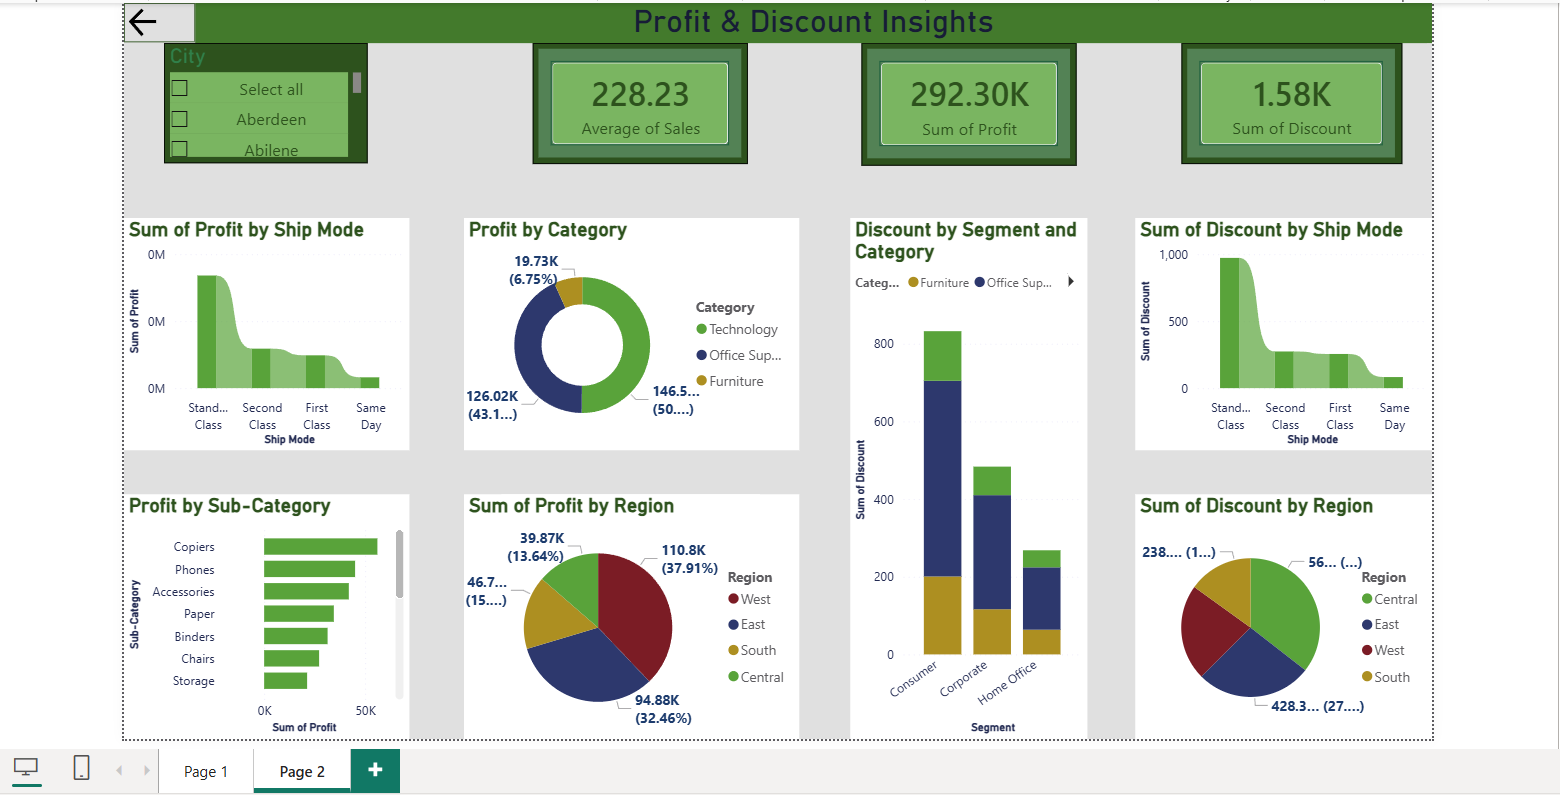

What the dashboard file says about the page in this screenshot:
{"tool":"powerbi","page":{"name":"Page 2","canvas":[1280,720],"ordinal":1},"visuals":[{"type":"pieChart","fields":{"Category":["samplesuperstore.Region"],"Y":["Sum(samplesuperstore.Discount)"]},"box":[989.3,480.6,291,239.7],"z":0},{"type":"donutChart","title":"Profit by Category","fields":{"Y":["Sum(samplesuperstore.Profit)"],"Category":["samplesuperstore.Category"]},"box":[332.6,210.3,327.7,227.4],"z":1000},{"type":"columnChart","title":"Discount by Segment and Category","fields":{"Category":["samplesuperstore.Segment"],"Y":["Sum(samplesuperstore.Discount)"],"Series":["samplesuperstore.Category"]},"box":[710.5,210.3,232.3,509.9],"z":2000},{"type":"pieChart","title":"Profit by Country","fields":{"Category":["samplesuperstore.Country/Region"],"Y":["Sum(samplesuperstore.Profit)"]},"box":[369.3,480.6,253.1,239.7],"z":3000},{"type":"ribbonChart","fields":{"Y":["Sum(samplesuperstore.Discount)"],"Category":["samplesuperstore.Ship Mode"]},"box":[989.3,210.3,291,227.4],"z":4000},{"type":"cardVisual","fields":{"Data":["Sum(samplesuperstore.Profit)"]},"box":[721.5,39.1,210.3,119.8],"z":5000},{"type":"cardVisual","fields":{"Data":["Sum(samplesuperstore.Discount)"]},"box":[1035,39.1,215.6,118.6],"z":6000},{"type":"textbox","title":"Profit & Discount Insights","box":[70.1,0,1210.2,39.1],"z":7000},{"type":"actionButton","box":[0,0,70,38.4],"z":8000},{"type":"pieChart","fields":{"Y":["Sum(samplesuperstore.Profit)"],"Category":["samplesuperstore.Region"]},"box":[332.6,480.6,327.7,239.7],"z":9000},{"type":"ribbonChart","fields":{"Y":["Sum(samplesuperstore.Profit)"],"Category":["samplesuperstore.Ship Mode"]},"box":[0,210.3,278.8,227.4],"z":10000},{"type":"cardVisual","fields":{"Data":["Avg(samplesuperstore.Sales)"]},"box":[399.9,39.1,210.3,118.6],"z":11000},{"type":"listSlicer","fields":{"Values":["samplesuperstore.City"]},"box":[39.1,39.1,199.3,117.4],"z":12000},{"type":"clusteredBarChart","title":"Profit by Sub-Category","fields":{"Category":["samplesuperstore.Sub-Category"],"Y":["Sum(samplesuperstore.Profit)"]},"box":[0,480.6,278.8,239.7],"z":13000}]}

Visuals, with their boxes on the page's 1280x720 design canvas (x1, y1, x2, y2). These are canvas units, not pixel positions in the 1560x795 screenshot, which may show the page scaled, cropped or inside an application window:
pieChart - samplesuperstore.Region x Sum(samplesuperstore.Discount): detection(989, 481, 1280, 720)
"Profit by Category" donutChart: detection(333, 210, 660, 438)
"Discount by Segment and Category" columnChart: detection(710, 210, 943, 720)
"Profit by Country" pieChart: detection(369, 481, 622, 720)
ribbonChart - Sum(samplesuperstore.Discount) x samplesuperstore.Ship Mode: detection(989, 210, 1280, 438)
cardVisual - Sum(samplesuperstore.Profit): detection(722, 39, 932, 159)
cardVisual - Sum(samplesuperstore.Discount): detection(1035, 39, 1251, 158)
"Profit & Discount Insights" textbox: detection(70, 0, 1280, 39)
actionButton: detection(0, 0, 70, 38)
pieChart - Sum(samplesuperstore.Profit) x samplesuperstore.Region: detection(333, 481, 660, 720)
ribbonChart - Sum(samplesuperstore.Profit) x samplesuperstore.Ship Mode: detection(0, 210, 279, 438)
cardVisual - Avg(samplesuperstore.Sales): detection(400, 39, 610, 158)
listSlicer - samplesuperstore.City: detection(39, 39, 238, 156)
"Profit by Sub-Category" clusteredBarChart: detection(0, 481, 279, 720)
